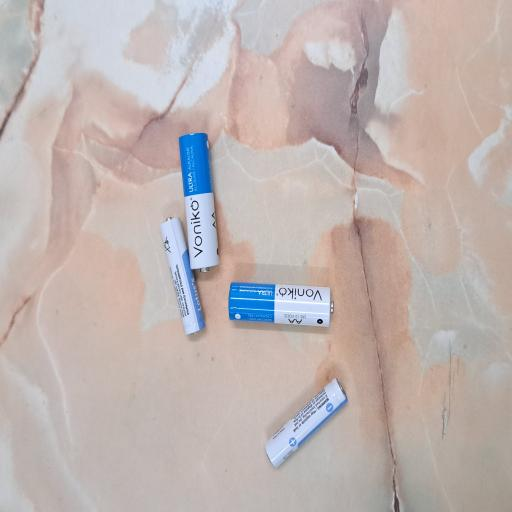battery: (33, 352, 101, 463), (180, 238, 285, 292), (133, 214, 223, 274), (138, 304, 173, 446)
